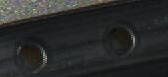joints: (102, 18, 140, 58), (12, 39, 49, 75)
